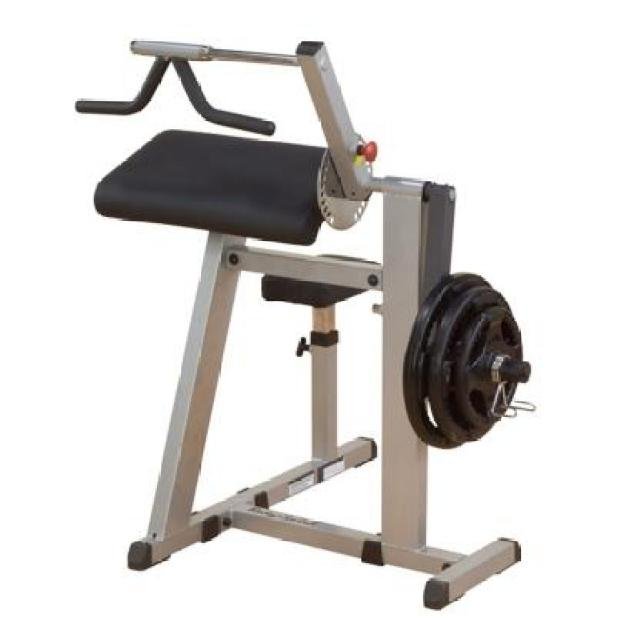arm curl machine: (74, 37, 535, 611)
